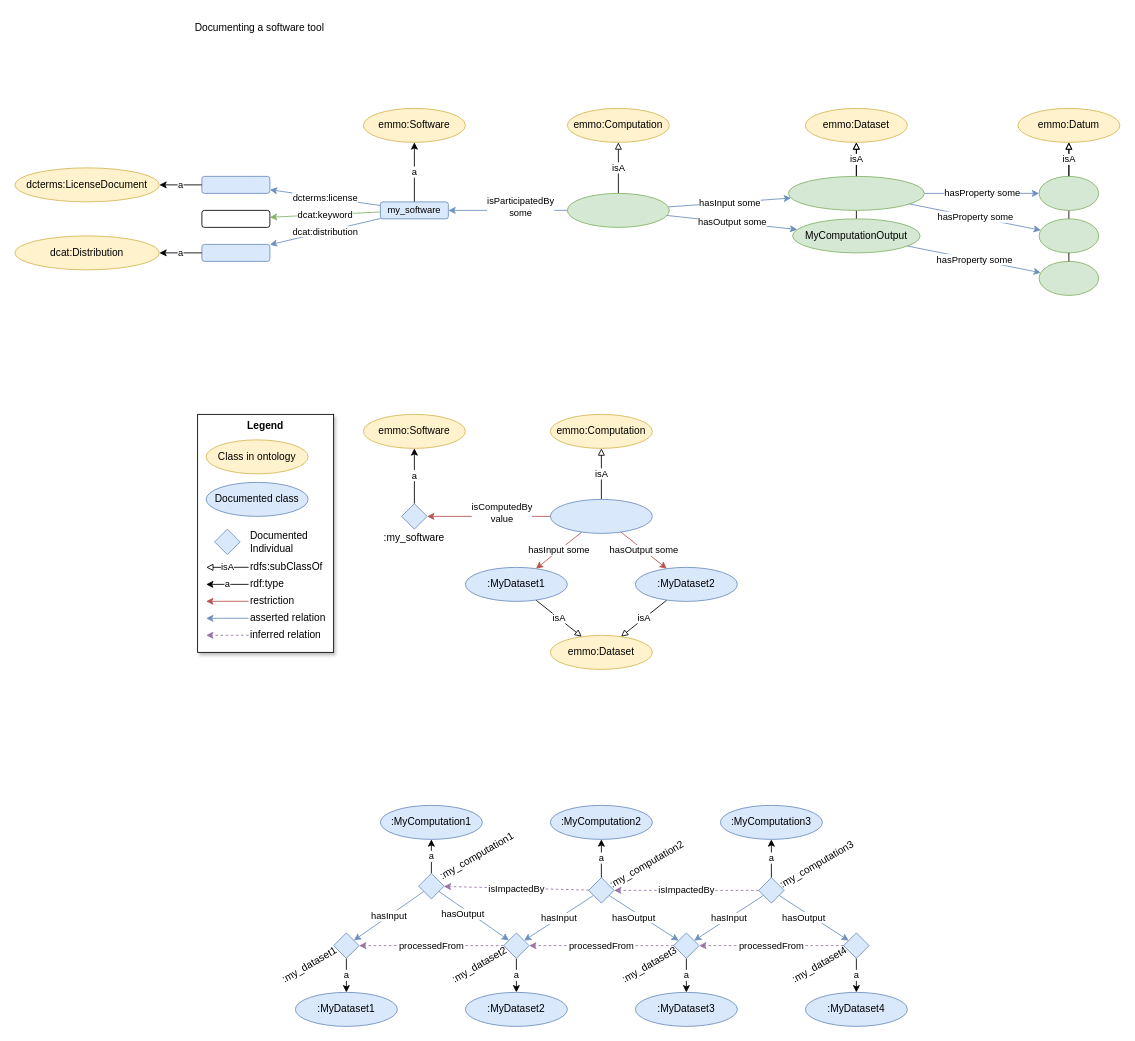
This 1135x1041 diagram has some shape labels left out. The shapes that lost their labels are listed below. From the top down, each one's centre as x and y in pixels, then its label:
At (x=235, y=184): "my_license".
At (x=856, y=193): "MyComputationInput".
At (x=1068, y=193): "Datum1".
At (x=235, y=218): "my_keyword".
At (x=618, y=210): "MyComputation".
At (x=235, y=252): "my_distribution".
At (x=1068, y=235): "Datum2".
At (x=1068, y=278): "Datum3".
At (x=601, y=516): ":MyComputation".
